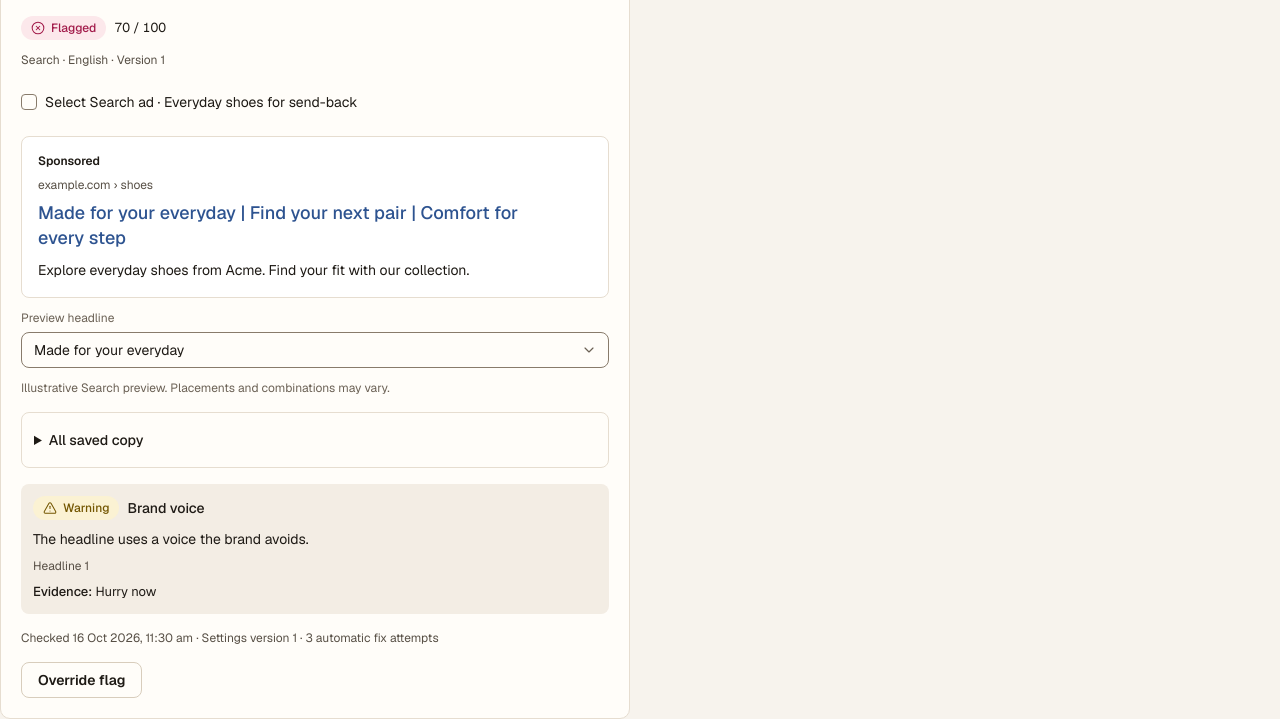
Test: override validates a reason, retains it on failure and sends the asset version only after confirmation
The image size is (1280, 719).
(page scrolled)
Click the button "Override flag" at [82, 680], box [21,662,142,698]
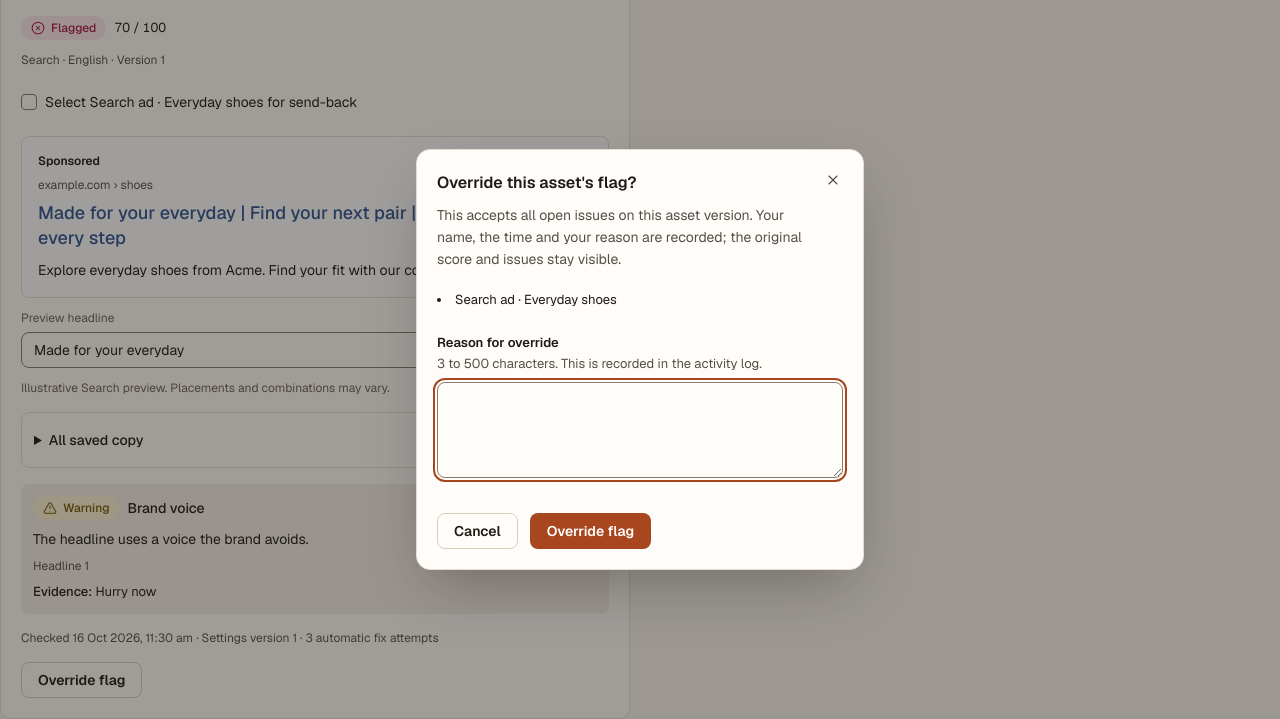
Click the button "Override flag" at [590, 530], box [530,512,651,548]
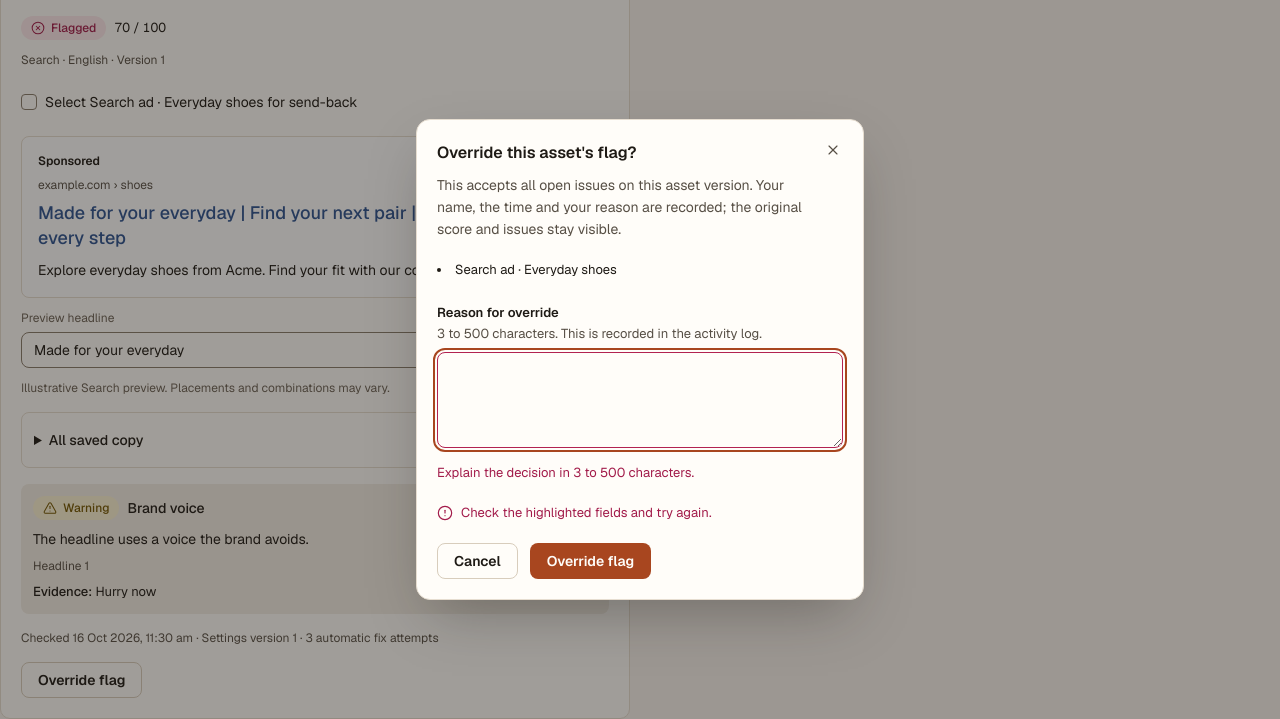
Check: the text "Explain the decision in 3 to 500 characters." is shown, box [437,464,694,480]
Type "Reviewed this brand exception" into the text box labelled "Reason for override" at [640, 400], box [437,352,843,448]
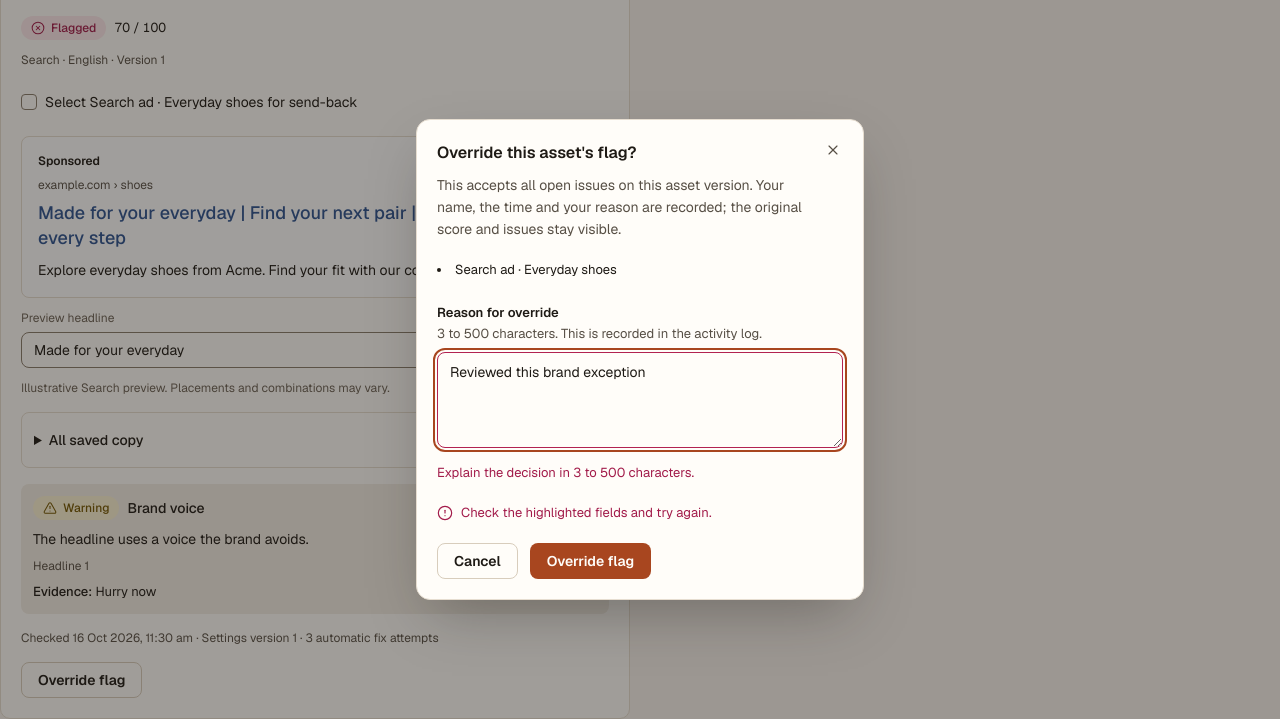
Click the button "Override flag" at [590, 560], box [530,542,651,578]
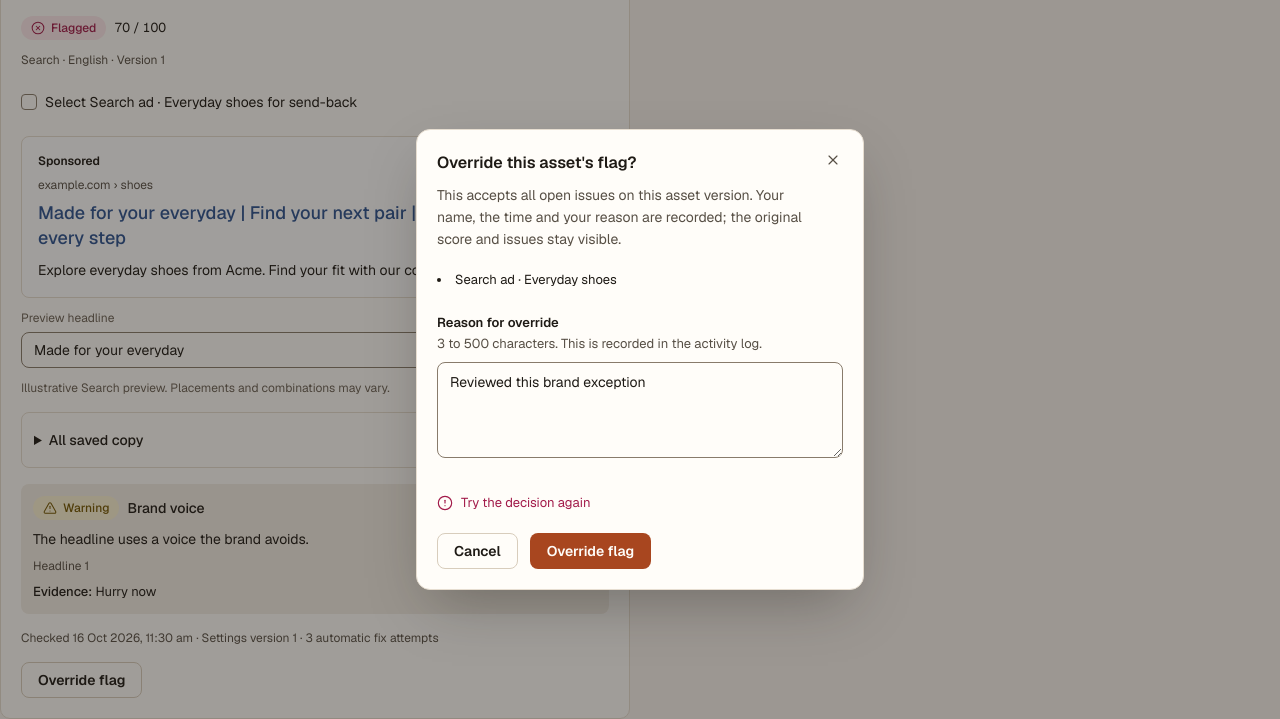
Check: the text "Try the decision again" is shown, box [461,492,590,512]
